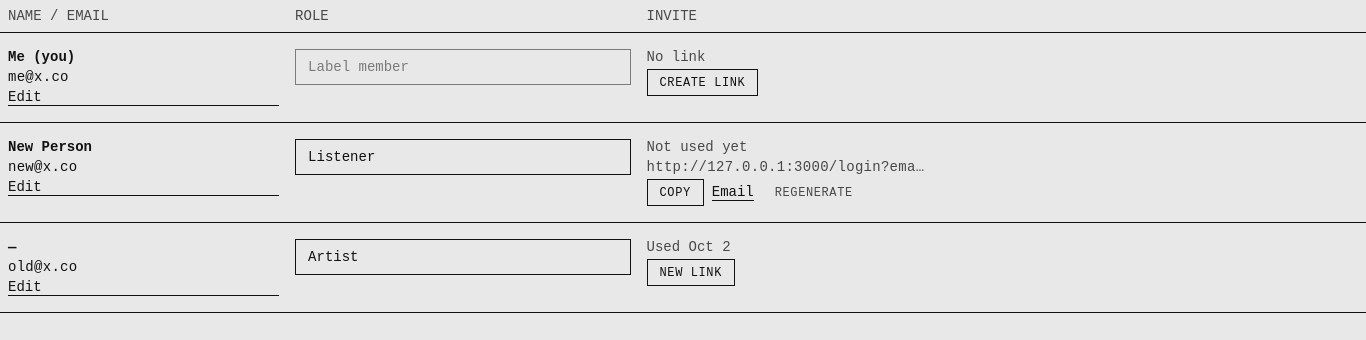
Scenario: UsersTable › shows an action error inline
Click the button "Create link" at coordinates (702, 83), box [646,69,758,96]
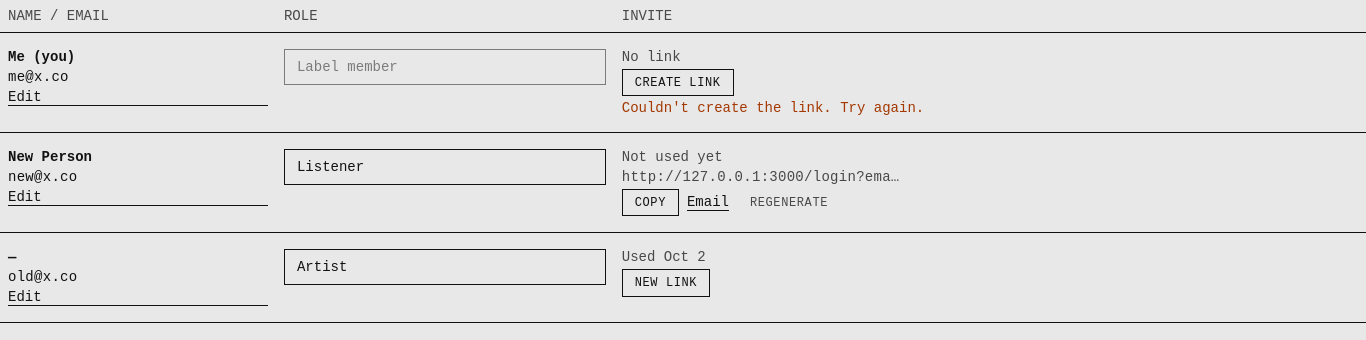
Expected: the message shows "Couldn't create the link", [622,100,924,116]
